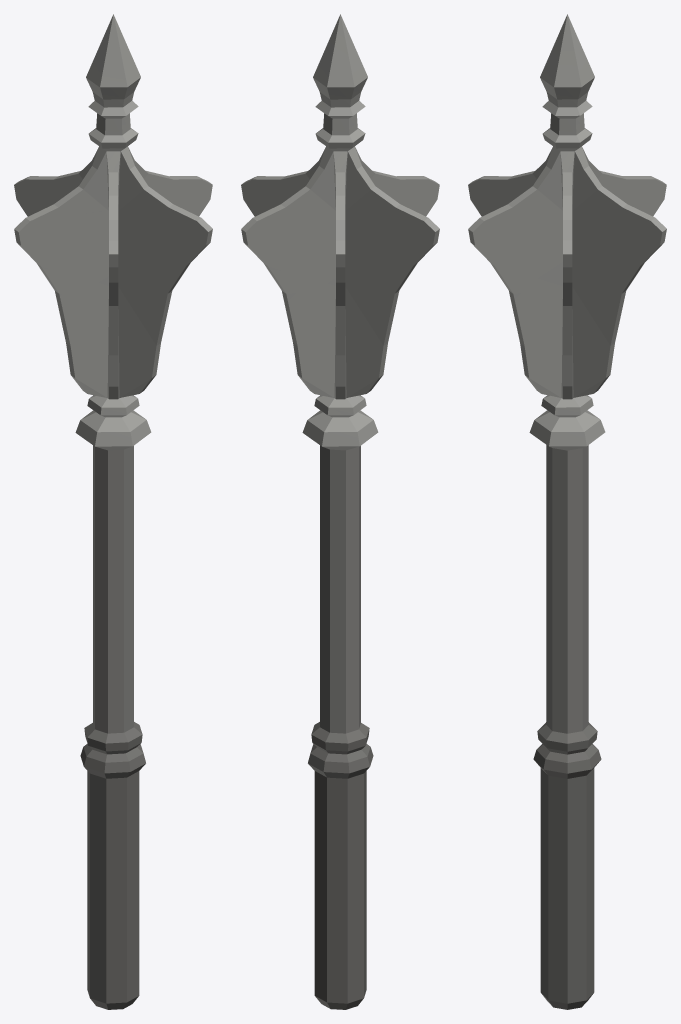
File: SM_pwe_medieval_mace_08.fbx
The picture shows the model from 3 angles, left to right: view 1: azimuth 30°, elevation 25°; view 2: azimuth 150°, elevation 25°; view 3: azimuth 270°, elevation 25°; orthographic projection.
Visible parts, largest first — view 1: SM_pwe_medieval_mace_08; view 2: SM_pwe_medieval_mace_08; view 3: SM_pwe_medieval_mace_08.
Part boxes in pixels (left/top/right/bottom): SM_pwe_medieval_mace_08: left=14, top=14, right=212, bottom=1009; SM_pwe_medieval_mace_08: left=241, top=14, right=439, bottom=1009; SM_pwe_medieval_mace_08: left=468, top=14, right=666, bottom=1009.
Bounding box in the file's own units: 20.03 × 98.01 × 17.76.
